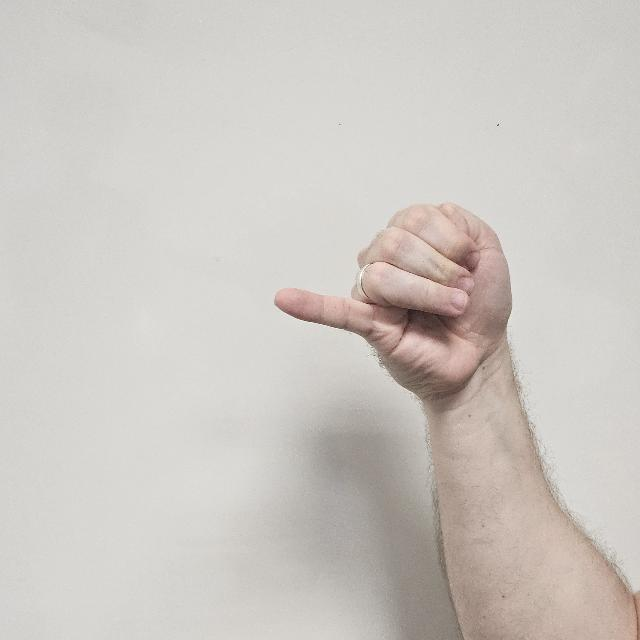Esquerda: (264, 157, 538, 431)
